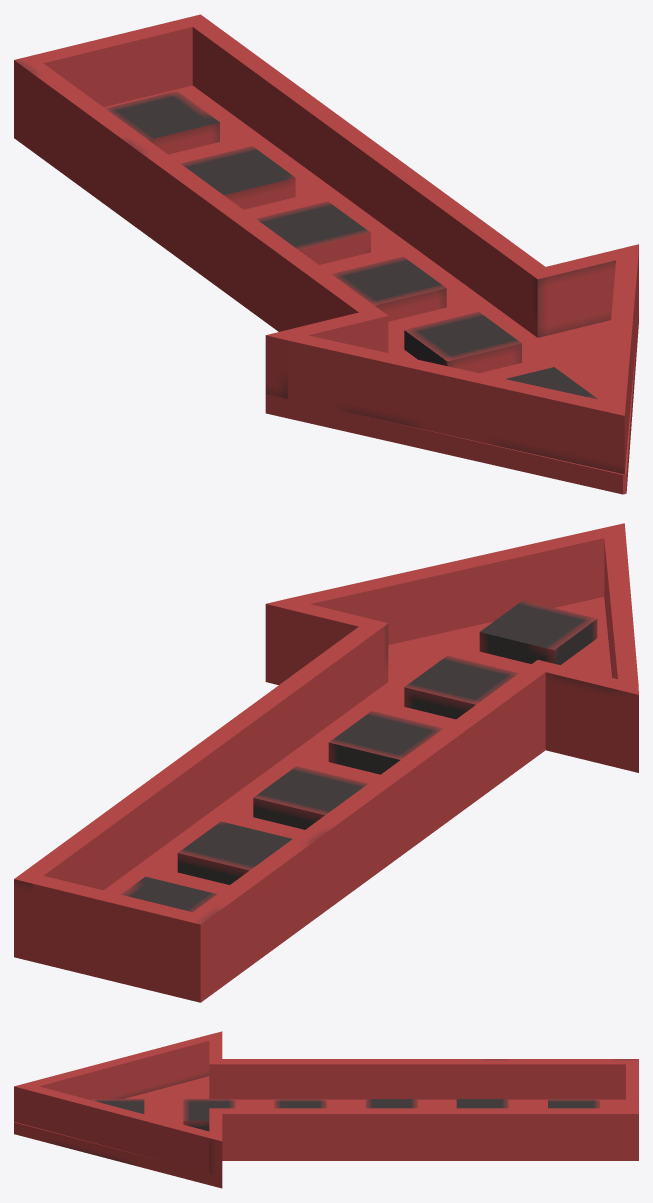
File: Arrow.obj
3 views of the same model, one above another, from view 1: azimuth 30°, elevation 25°; view 2: azimuth 150°, elevation 25°; view 3: azimuth 270°, elevation 25° (orthographic). The views are drawn at different scales.
Visible parts, largest first — view 1: cuboid; view 2: cuboid; view 3: cuboid.
Boxes of the visible parts, box(x1,y1,x2,y2) form: cuboid: box(14, 14, 638, 494); cuboid: box(14, 523, 638, 1002); cuboid: box(14, 1031, 638, 1188).
Bounding box in the file's own units: 1.25 × 0.25 × 3.
Materials: 1 (1 with a texture image).
